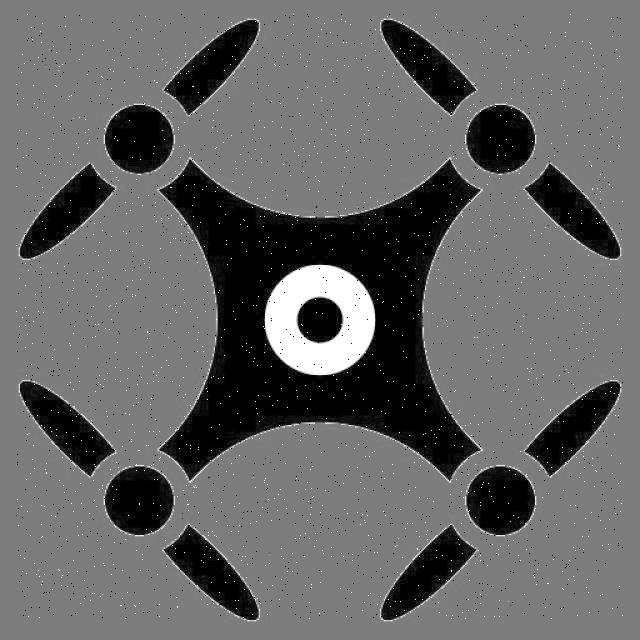drone: (17, 15, 624, 620)
